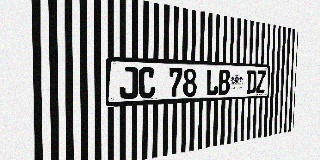7: (168, 68, 183, 97)
8: (183, 68, 197, 97)
B: (218, 69, 230, 95)
C: (138, 67, 155, 99)
D: (246, 70, 257, 94)
J: (119, 66, 138, 100)
L: (206, 69, 218, 96)
Z: (256, 70, 266, 93)
